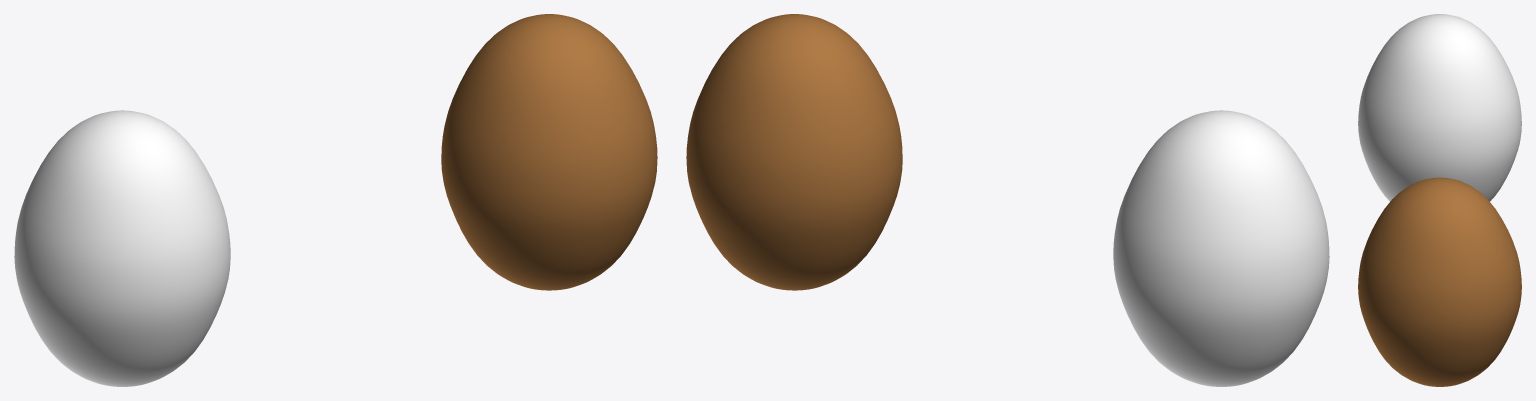
Rendered from uploads_files_2556487_egg+assortment.fbx.
The picture shows the model from 3 angles, left to right: view 1: azimuth 30°, elevation 25°; view 2: azimuth 150°, elevation 25°; view 3: azimuth 270°, elevation 25°; orthographic projection. The views are drawn at different scales.
Visible parts, largest first — view 1: Sphere.001, Sphere; view 2: Sphere.001, Sphere; view 3: Sphere, Sphere.001.
Part boxes in pixels (<box>): Sphere.001: <box>14,110,230,386</box>; Sphere: <box>441,14,657,290</box>; Sphere.001: <box>1113,110,1329,386</box>; Sphere: <box>686,14,902,290</box>; Sphere: <box>1358,177,1521,386</box>; Sphere.001: <box>1358,14,1521,201</box>.
Size of what is drawn, in the model's own units: 608 by 255 by 186.
